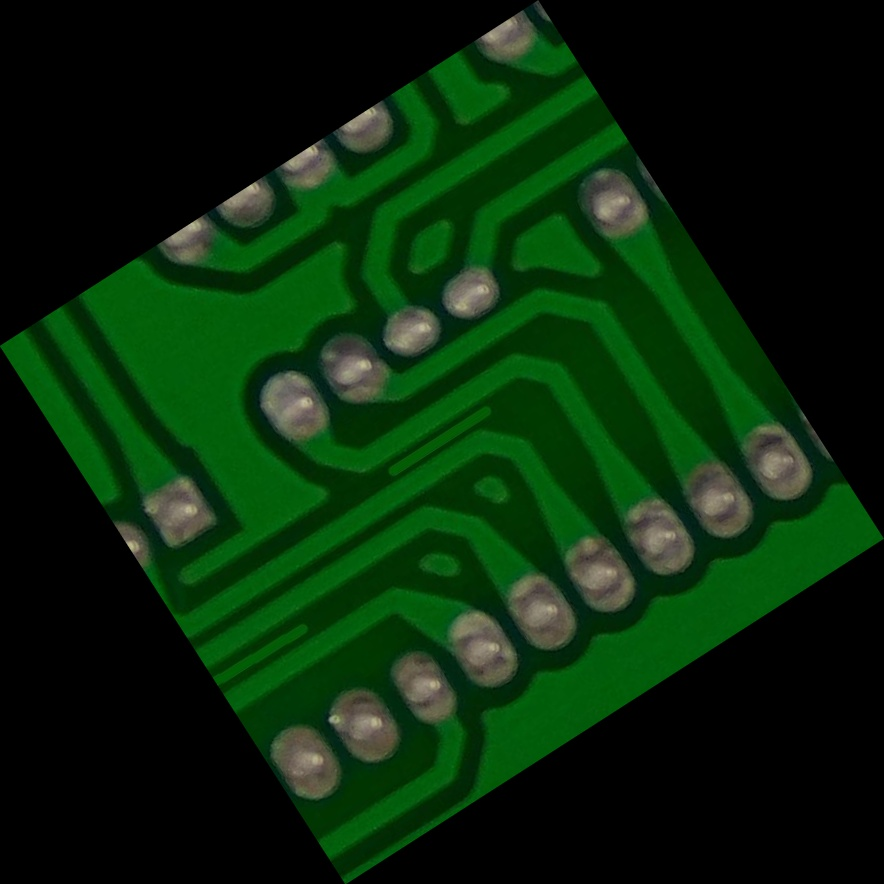spurious_copper: (363, 379, 521, 506)
